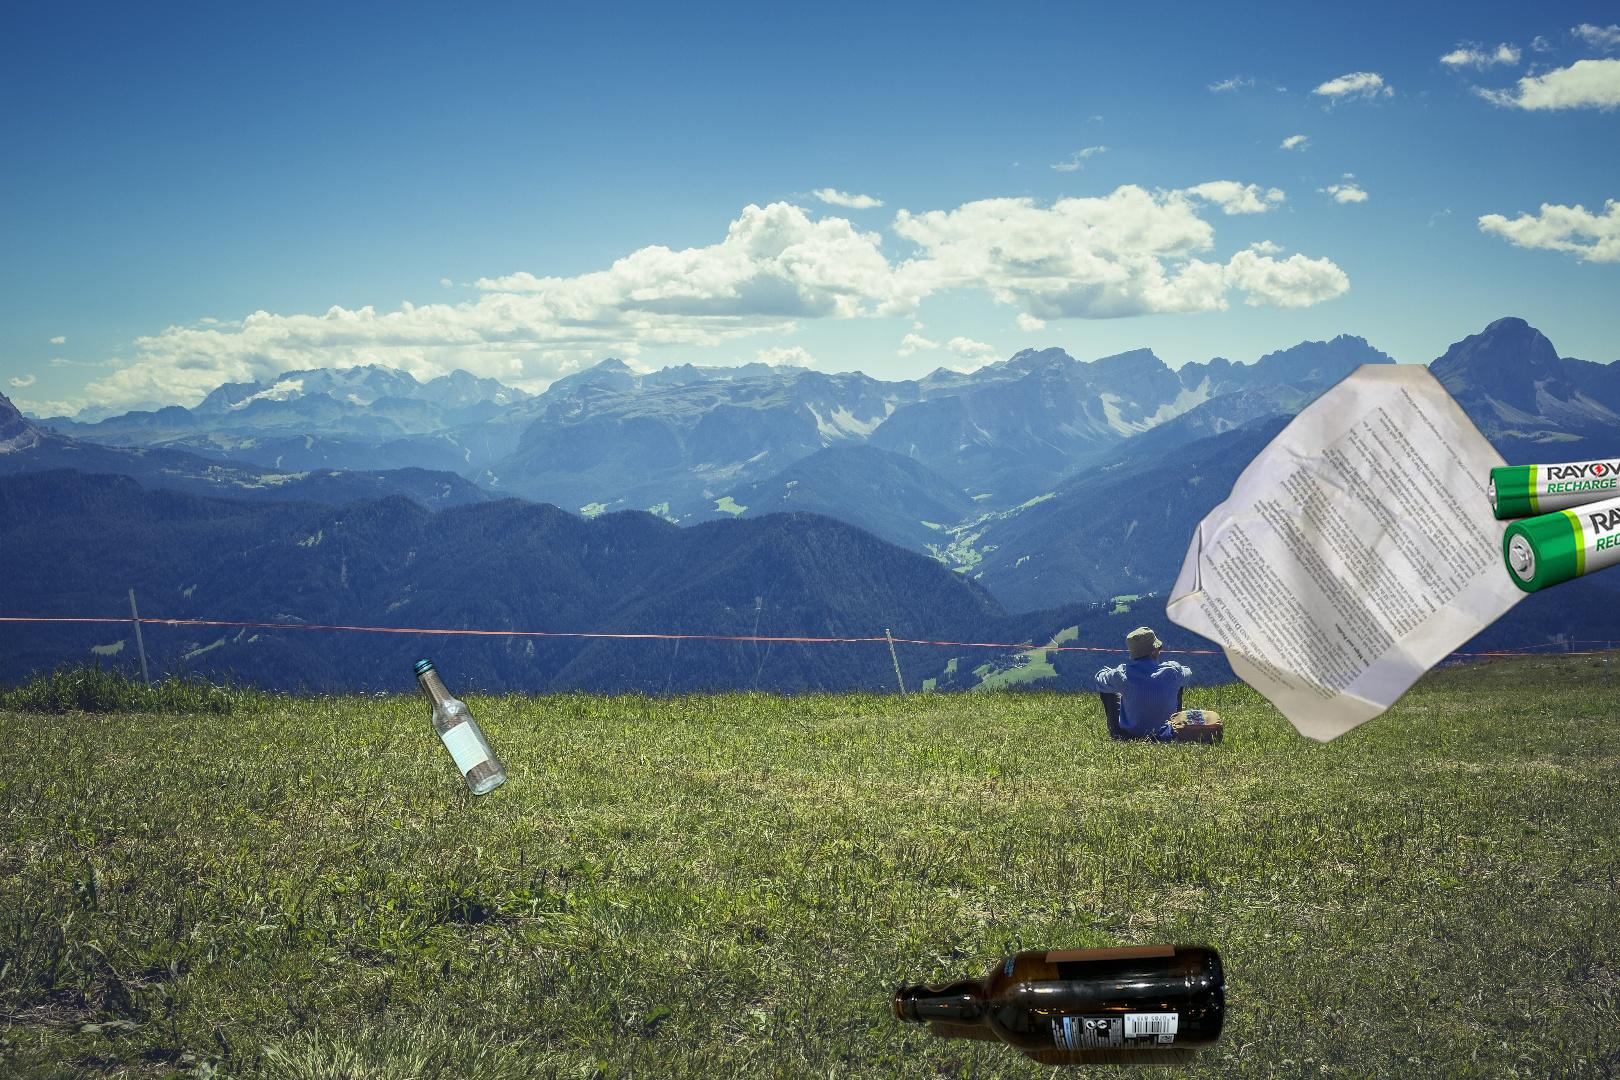battery: (1485, 453, 1620, 595)
glass: (890, 941, 1229, 1072), (410, 652, 511, 815)
paper: (1162, 364, 1575, 749)
